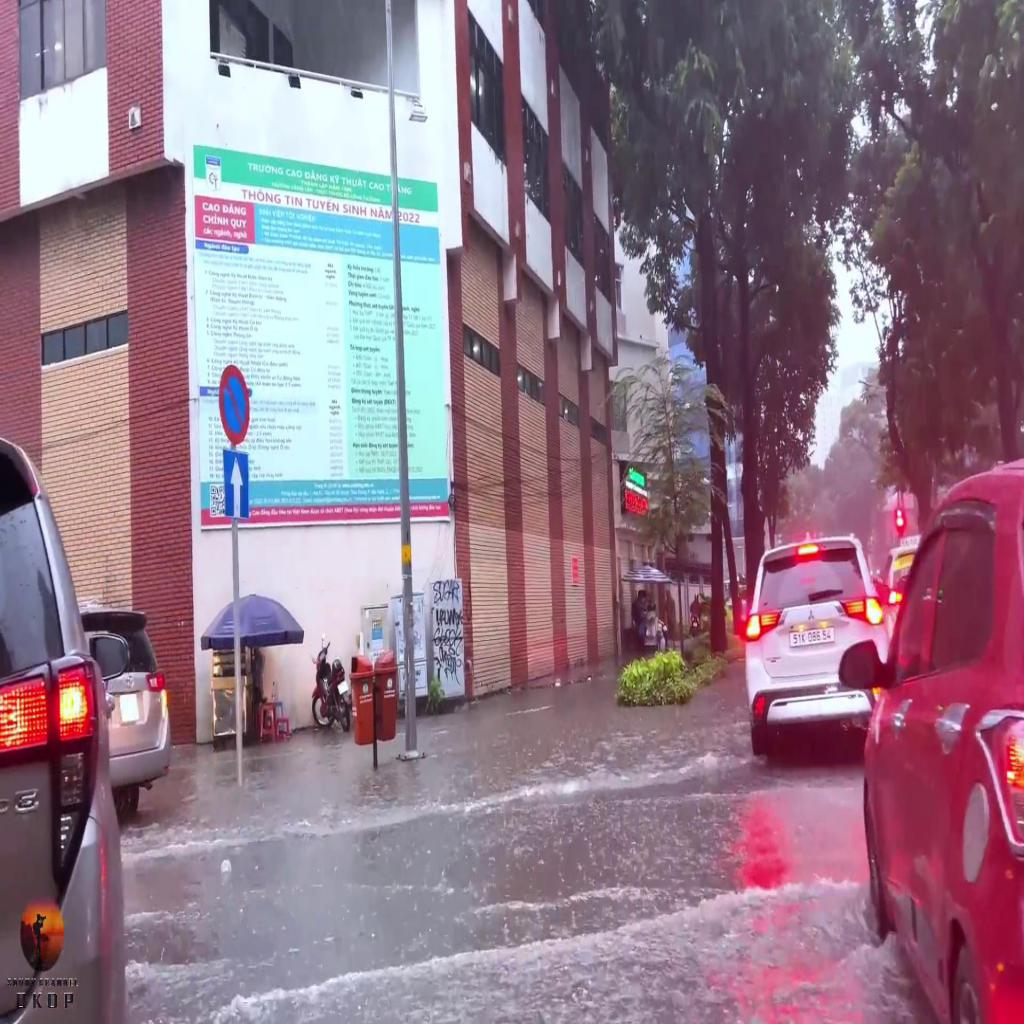cam_do_xe: (219, 364, 249, 445)
duong_mot_chieu: (224, 450, 250, 520)
